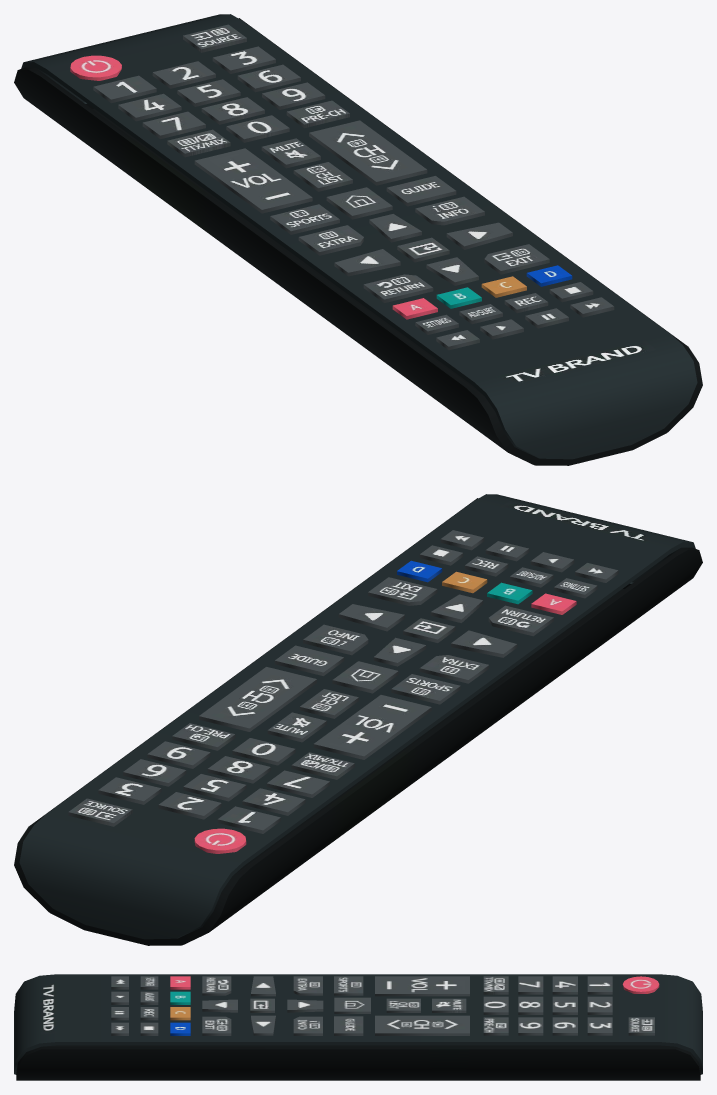
File: tv-remote-control-v2.glb
The picture shows the model from 3 angles, top to bottom: view 1: azimuth 30°, elevation 25°; view 2: azimuth 150°, elevation 25°; view 3: azimuth 270°, elevation 25°; orthographic projection. The views are drawn at different scales.
Parts seen in each view (by area): view 1: Object_3, Object_4, Object_2; view 2: Object_3, Object_4, Object_2; view 3: Object_3, Object_2, Object_4.
Boxes of the visible parts, x1,y1,x2,y2 form: Object_3: (21, 14, 697, 459); Object_4: (70, 24, 614, 350); Object_2: (14, 18, 702, 465); Object_3: (19, 494, 695, 939); Object_4: (68, 530, 618, 853); Object_2: (14, 498, 702, 945); Object_3: (14, 974, 702, 1074); Object_2: (16, 1045, 700, 1080); Object_4: (111, 976, 659, 1035).
Bounding box in the file's own units: 4.51 × 1.69 × 18.04.
Materials: 3 (3 with a texture image).
